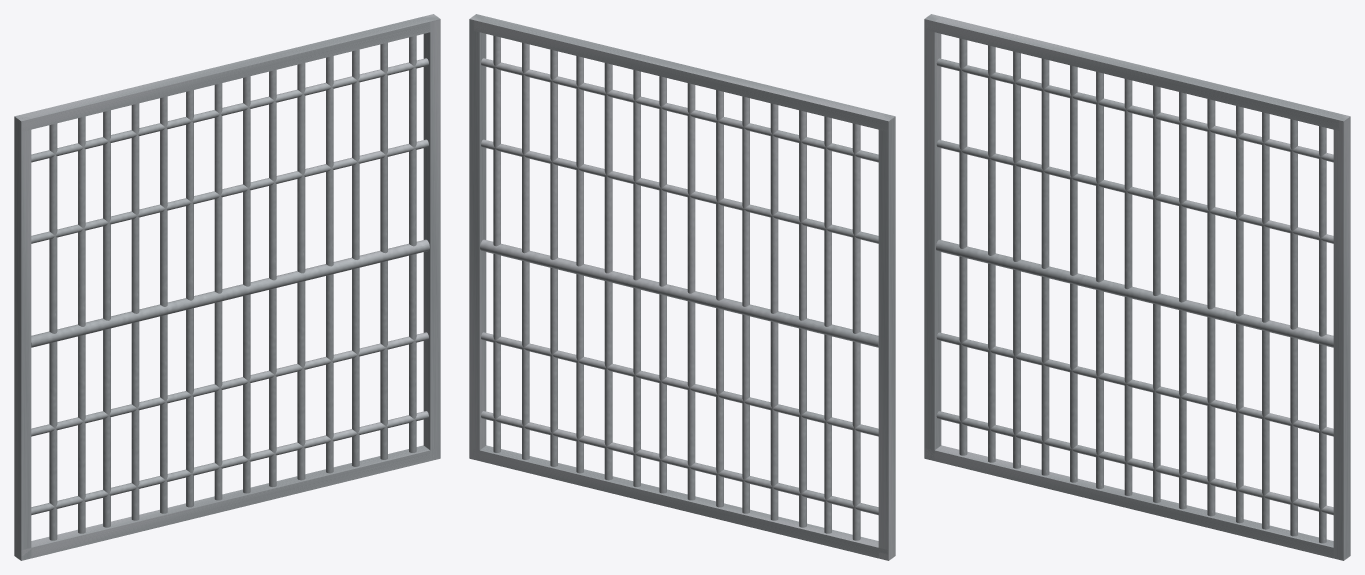
The model's file is Pared Final.FBX.
3 renders of one model, left to right at view 1: azimuth 30°, elevation 25°; view 2: azimuth 150°, elevation 25°; view 3: azimuth 330°, elevation 25°, orthographic.
Parts seen in each view (by area): view 1: Box009, Box008, Box007, Box006, Cylinder027, Cylinder042, Cylinder033, Cylinder039, Cylinder036, Cylinder032, Cylinder037, Cylinder035 (+11 smaller); view 2: Box009, Box008, Box007, Box006, Cylinder027, Cylinder039, Cylinder042, Cylinder033, Cylinder036, Cylinder032, Cylinder037, Cylinder035 (+11 smaller); view 3: Box008, Box009, Box007, Box006, Cylinder027, Cylinder042, Cylinder039, Cylinder033, Cylinder036, Cylinder019, Cylinder038, Cylinder034 (+11 smaller).
Boxes of the visible parts, left/top/right/bottom form: Box009: left=14, top=114, right=31, bottom=560; Box008: left=423, top=14, right=440, bottom=460; Box007: left=15, top=16, right=430, bottom=131; Box006: left=21, top=445, right=436, bottom=558; Cylinder027: left=31, top=239, right=429, bottom=347; Cylinder042: left=49, top=123, right=57, bottom=540; Cylinder033: left=297, top=63, right=305, bottom=480; Cylinder039: left=131, top=103, right=139, bottom=520; Cylinder036: left=214, top=83, right=222, bottom=500; Cylinder032: left=326, top=56, right=333, bottom=473; Cylinder037: left=186, top=90, right=193, bottom=507; Cylinder035: left=243, top=76, right=250, bottom=493; Box009: left=878, top=114, right=895, bottom=560; Box008: left=469, top=14, right=486, bottom=460; Box007: left=473, top=16, right=894, bottom=131; Box006: left=473, top=445, right=888, bottom=558; Cylinder027: left=480, top=239, right=878, bottom=347; Cylinder039: left=770, top=103, right=778, bottom=520; Cylinder042: left=852, top=123, right=860, bottom=540; Cylinder033: left=604, top=63, right=612, bottom=480; Cylinder036: left=687, top=83, right=695, bottom=500; Cylinder032: left=576, top=56, right=583, bottom=473; Cylinder037: left=716, top=90, right=723, bottom=507; Cylinder035: left=659, top=76, right=666, bottom=493; Box008: left=1333, top=114, right=1350, bottom=560; Box009: left=924, top=14, right=941, bottom=460; Box007: left=924, top=16, right=1344, bottom=130; Box006: left=924, top=445, right=1333, bottom=558; Cylinder027: left=936, top=239, right=1333, bottom=347; Cylinder042: left=959, top=38, right=967, bottom=455; Cylinder039: left=1041, top=58, right=1049, bottom=475; Cylinder033: left=1207, top=99, right=1215, bottom=516; Cylinder036: left=1124, top=79, right=1132, bottom=495; Cylinder019: left=1290, top=119, right=1297, bottom=536; Cylinder038: left=1070, top=65, right=1077, bottom=482; Cylinder034: left=1179, top=92, right=1186, bottom=509.
Size of the model in its own units: 123 by 123 by 3.5.
Materials: 12 (12 with a texture image).
